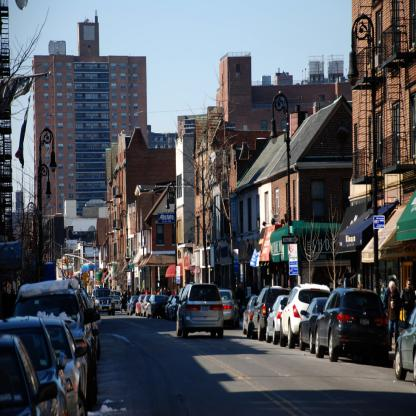Car: (0, 278, 416, 416)
